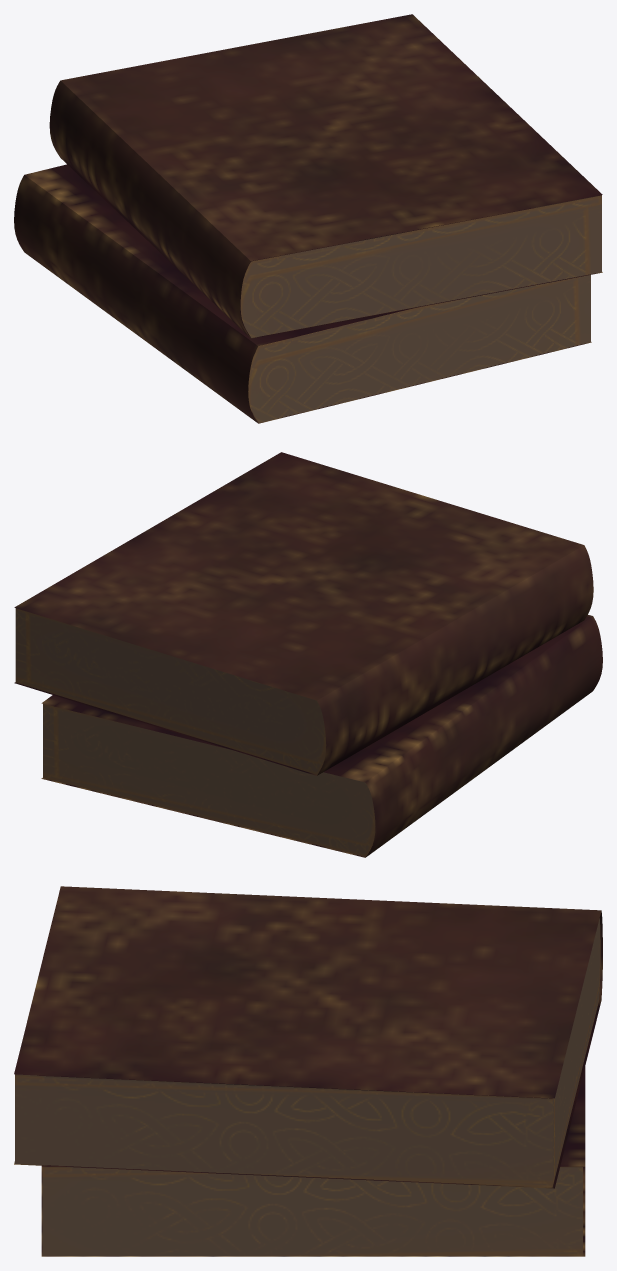
The model's file is SM_BookPile19.fbx.
3 views of the same model, one above another, from view 1: azimuth 30°, elevation 25°; view 2: azimuth 150°, elevation 25°; view 3: azimuth 270°, elevation 25° (orthographic). The views are drawn at different scales.
Visible parts, largest first — view 1: SM_BookPile19_LOD0; view 2: SM_BookPile19_LOD0; view 3: SM_BookPile19_LOD0.
Boxes of the visible parts, box(x1,y1,x2,y2) form: SM_BookPile19_LOD0: box(14, 14, 602, 423); SM_BookPile19_LOD0: box(14, 452, 602, 857); SM_BookPile19_LOD0: box(14, 886, 602, 1256).
Size of the model in its own units: 37.71 by 42.99 by 14.63.
Materials: 1 (1 with a texture image).
